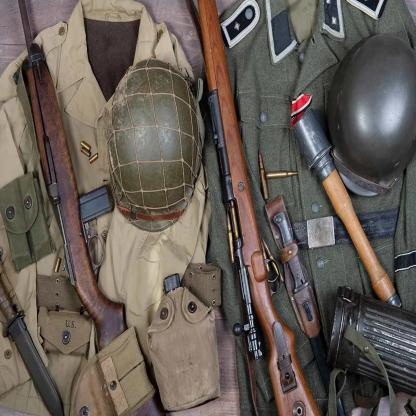Grenade: (289, 105, 402, 309)
Gun: (17, 0, 162, 416), (196, 0, 322, 416)
Knife: (265, 193, 344, 416), (0, 263, 65, 416)
